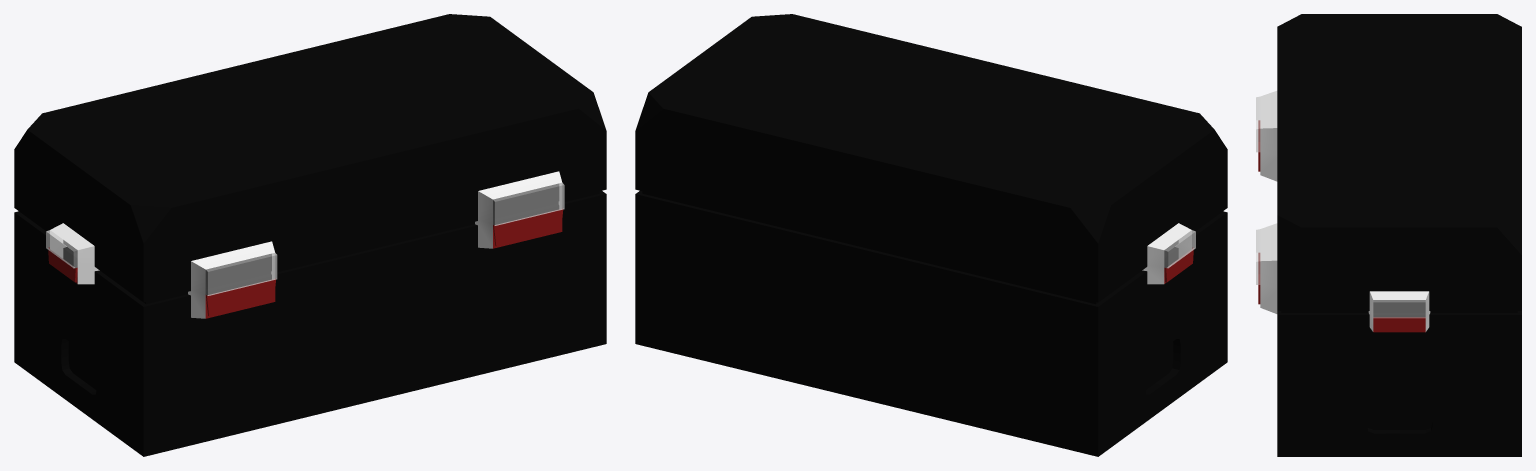
The model's file is SM_Room_hub_Storage_box(1).fbx.
The picture shows the model from 3 angles, left to right: view 1: azimuth 30°, elevation 25°; view 2: azimuth 150°, elevation 25°; view 3: azimuth 270°, elevation 25°; orthographic projection. The views are drawn at different scales.
Parts seen in each view (by area): view 1: Box009; view 2: Box009; view 3: Box009.
Part boxes in pixels (left/top/right/bottom): Box009: left=14, top=14, right=606, bottom=456; Box009: left=635, top=14, right=1227, bottom=456; Box009: left=1256, top=14, right=1521, bottom=456.
Bounding box in the file's own units: 92.96 × 45.1 × 42.94.
